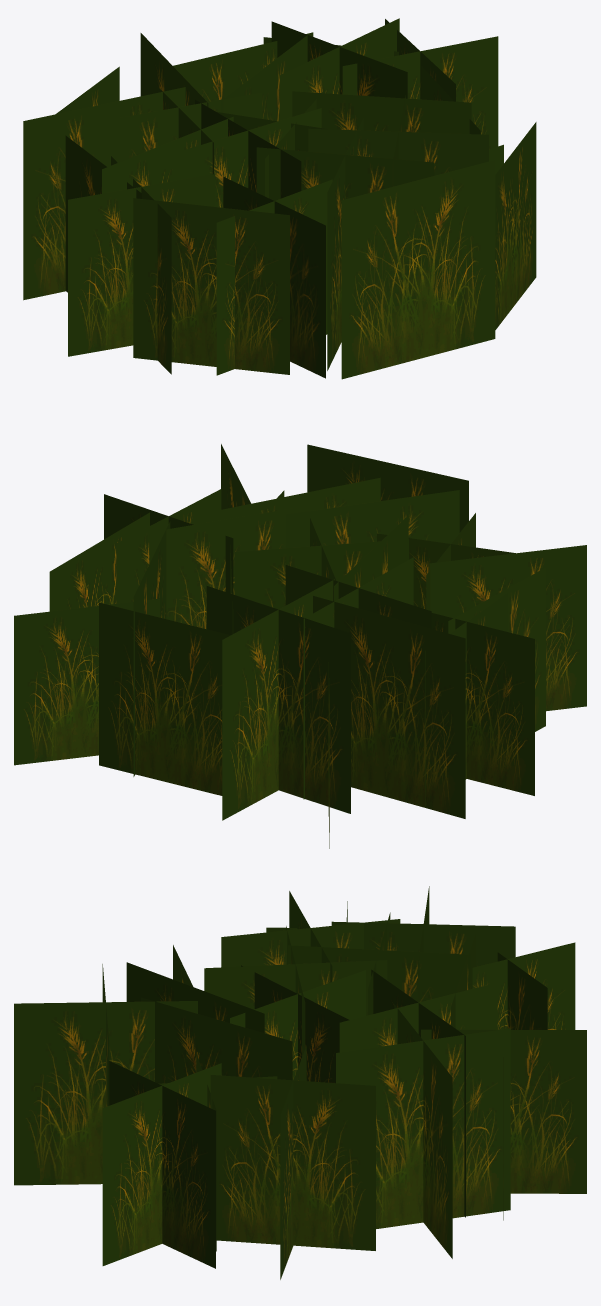
Rendered from INST_TROLLHOLE_GRASSPLANTS-CLUMP.fbx.
The picture shows the model from 3 angles, top to bottom: view 1: azimuth 30°, elevation 25°; view 2: azimuth 150°, elevation 25°; view 3: azimuth 270°, elevation 25°; orthographic projection.
Visible parts, largest first — view 1: INST_TROLLHOLE_GRASSPLANTS-CLUMP; view 2: INST_TROLLHOLE_GRASSPLANTS-CLUMP; view 3: INST_TROLLHOLE_GRASSPLANTS-CLUMP.
Boxes of the visible parts, x1,y1,x2,y2 form: INST_TROLLHOLE_GRASSPLANTS-CLUMP: [23, 18, 536, 379]; INST_TROLLHOLE_GRASSPLANTS-CLUMP: [14, 444, 586, 848]; INST_TROLLHOLE_GRASSPLANTS-CLUMP: [14, 886, 586, 1279].
Bounding box in the file's own units: 27495 × 9760 × 27873.
1 material, 1 textured.
